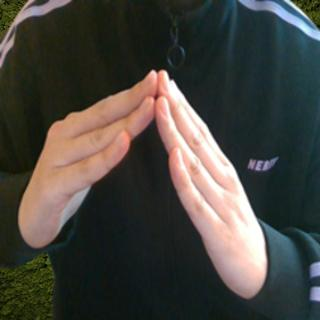HOME: (17, 66, 270, 298)
